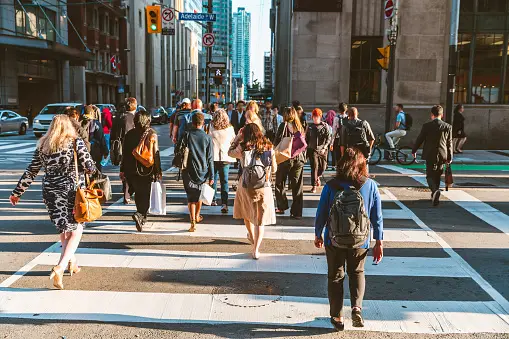person: (312, 139, 378, 330), (26, 101, 89, 290), (229, 121, 279, 256), (411, 104, 459, 198), (134, 107, 163, 229), (181, 116, 209, 233), (281, 104, 304, 212)
